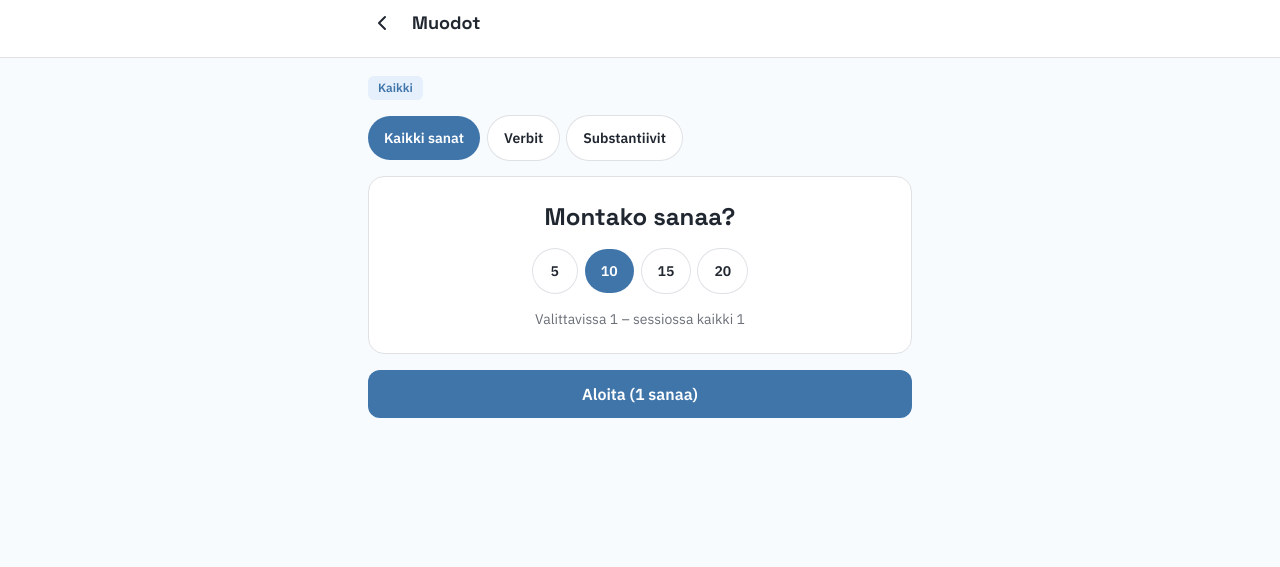
it: WordForms practice › shows a verb with its first step (presens) and cue
What coordinates should you click on to do the following:
click the button "Aloita (1 sanaa)"
I would click on:
 (640, 394)
Its box is 368,370 -> 912,418.
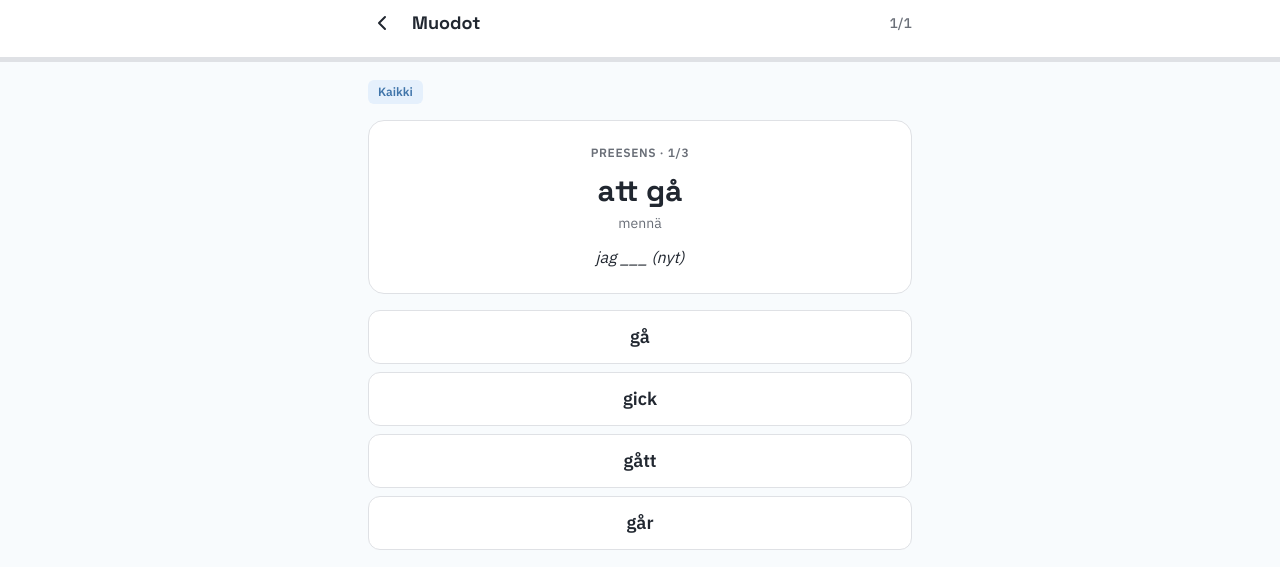
Result: the text "att gå" is shown at 598,171 -> 682,210
Result: the text "mennä" is shown at 618,214 -> 662,232
Result: the text "Preesens · 1/3" is shown at 591,145 -> 689,160
